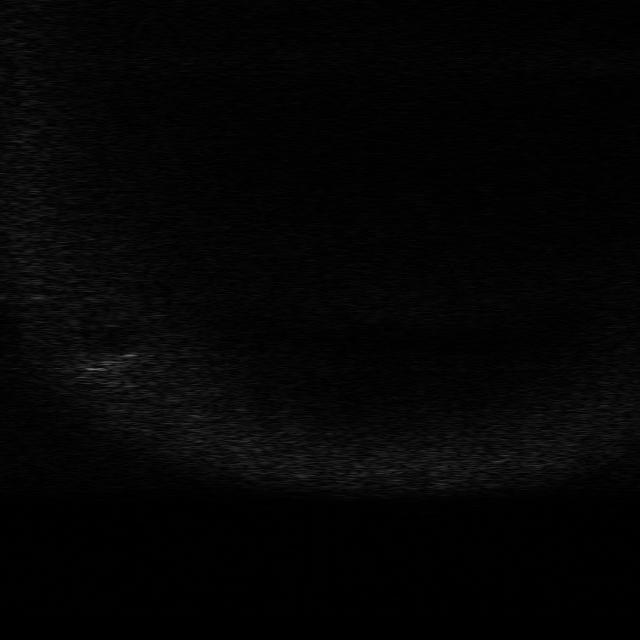plane: (76, 348, 140, 376)
